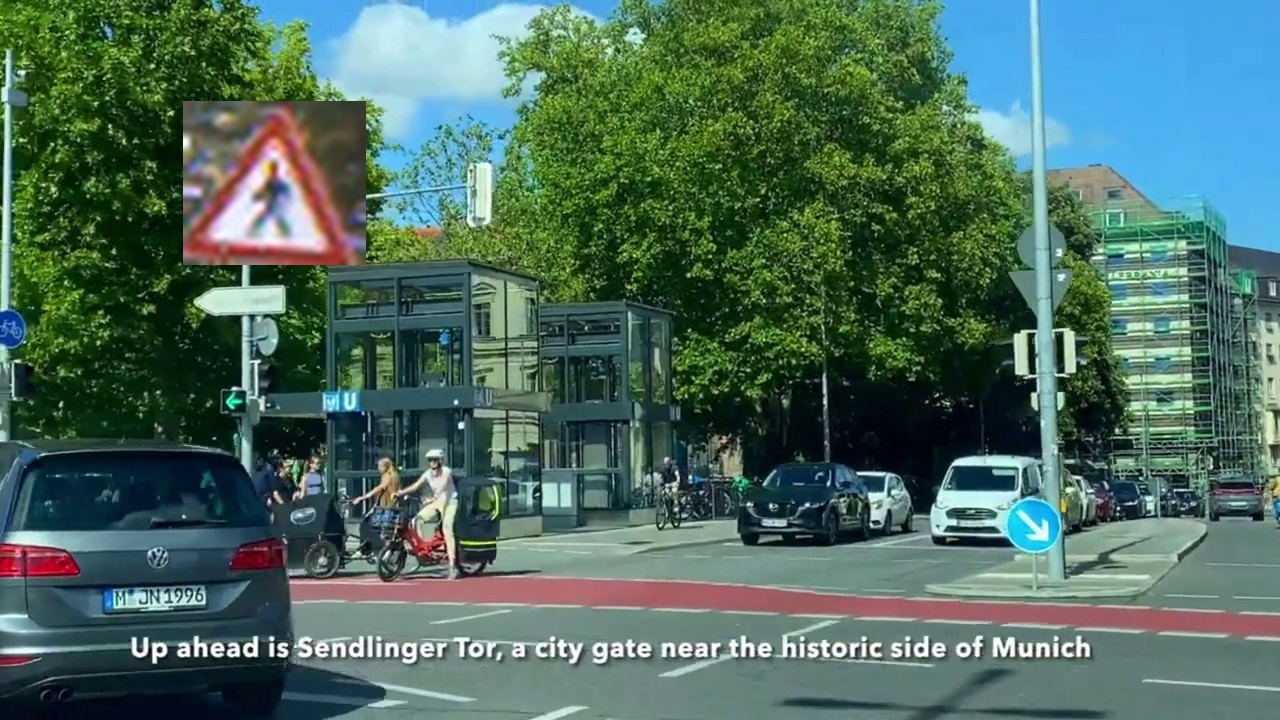Pedestrians: (183, 101, 366, 265)
